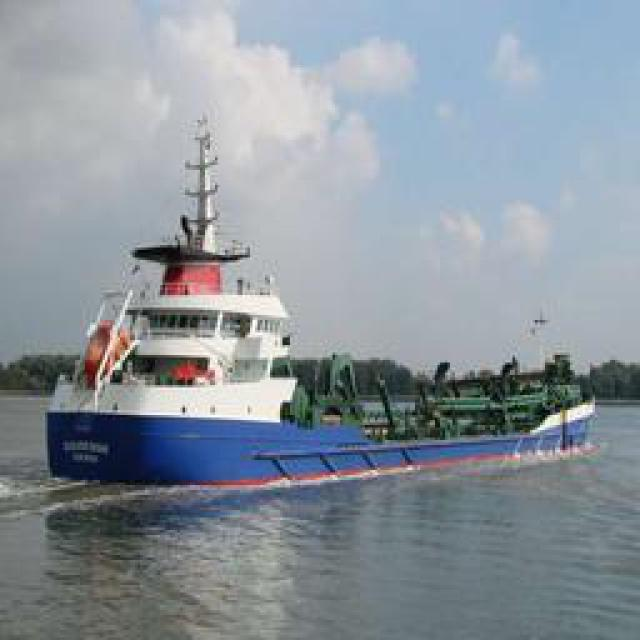Ship: (37, 127, 614, 489)
